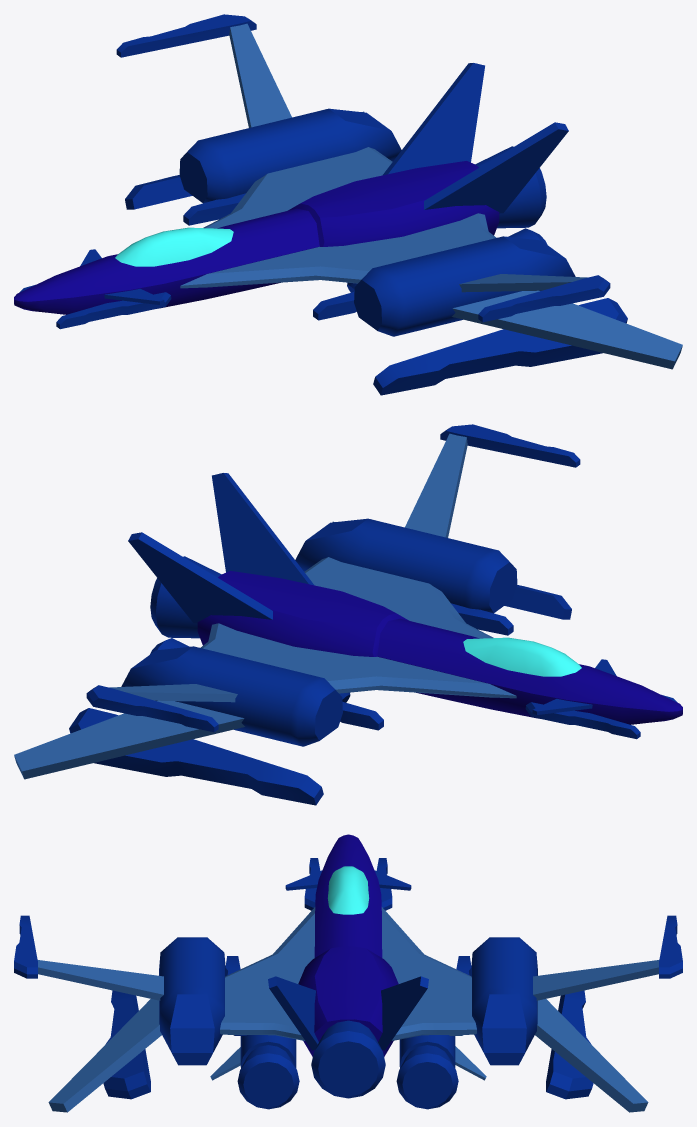
The model's file is Player.fbx.
3 renders of one model, top to bottom at view 1: azimuth 30°, elevation 25°; view 2: azimuth 150°, elevation 25°; view 3: azimuth 270°, elevation 25°, orthographic. The views are drawn at different scales.
Parts seen in each view (by area): view 1: StarSparrow01; view 2: StarSparrow01; view 3: StarSparrow01.
Boxes of the visible parts, bbox=[...] form: StarSparrow01: bbox=[14, 14, 682, 395]; StarSparrow01: bbox=[14, 424, 682, 805]; StarSparrow01: bbox=[14, 834, 682, 1112].
Size of the model in its own units: 1085 by 326 by 1364.
